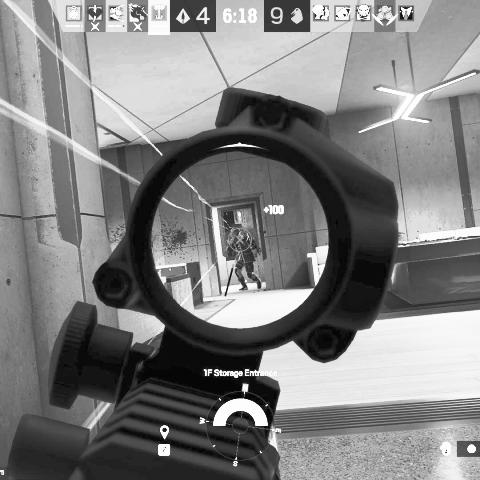Character: (226, 226, 263, 292)
Head: (231, 227, 240, 237)
